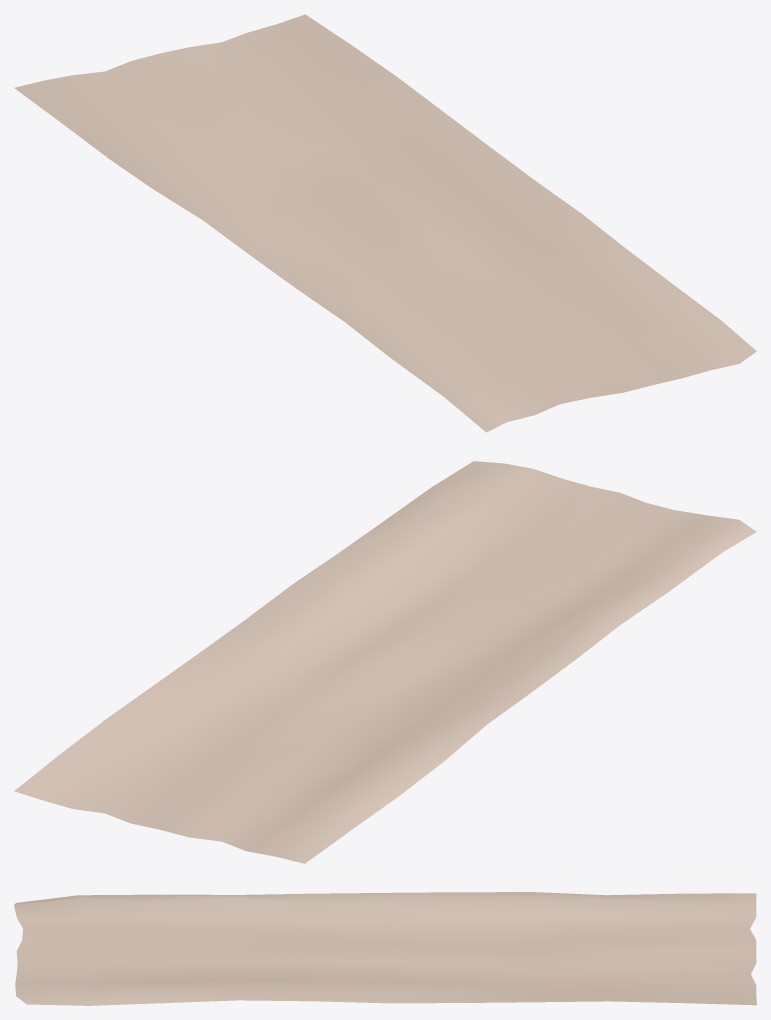
File: flooring.fbx
The picture shows the model from 3 angles, top to bottom: view 1: azimuth 30°, elevation 25°; view 2: azimuth 150°, elevation 25°; view 3: azimuth 270°, elevation 25°; orthographic projection. The views are drawn at different scales.
Parts seen in each view (by area): view 1: plane; view 2: plane; view 3: plane.
Boxes of the visible parts, x1=… form: plane: x1=14, y1=14, x2=756, y2=432; plane: x1=14, y1=461, x2=756, y2=863; plane: x1=14, y1=892, x2=756, y2=1005.
Bounding box in the file's own units: 414 × 21.39 × 1140.
